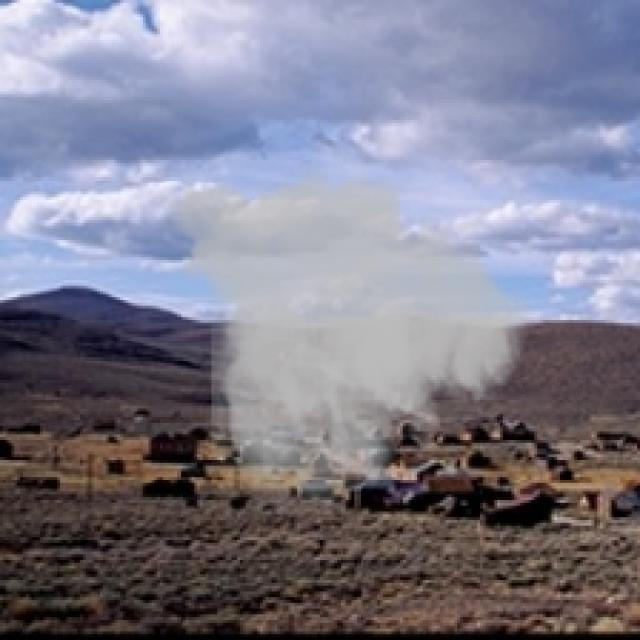Smoke: (151, 160, 546, 514)
